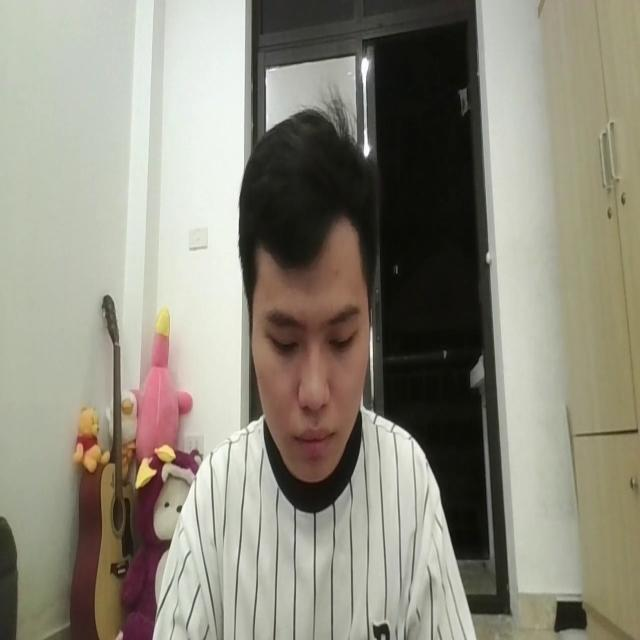student: (155, 110, 477, 640)
